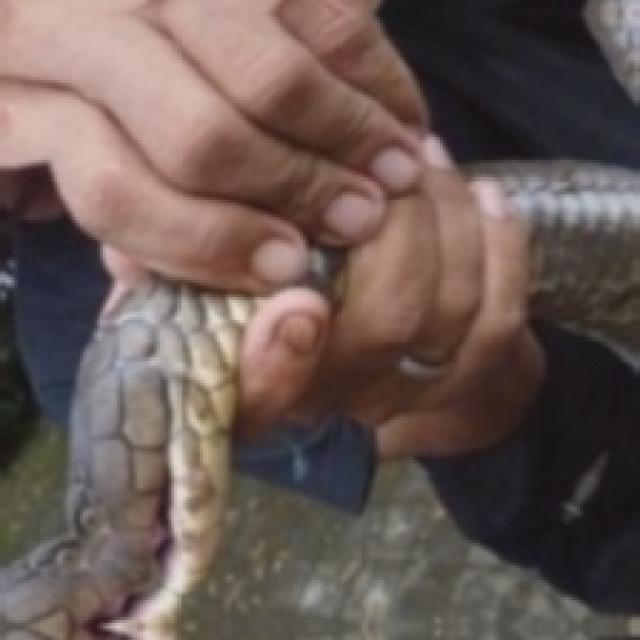king cobra: (0, 280, 637, 637), (429, 160, 637, 606), (17, 286, 97, 414), (3, 171, 91, 260)
